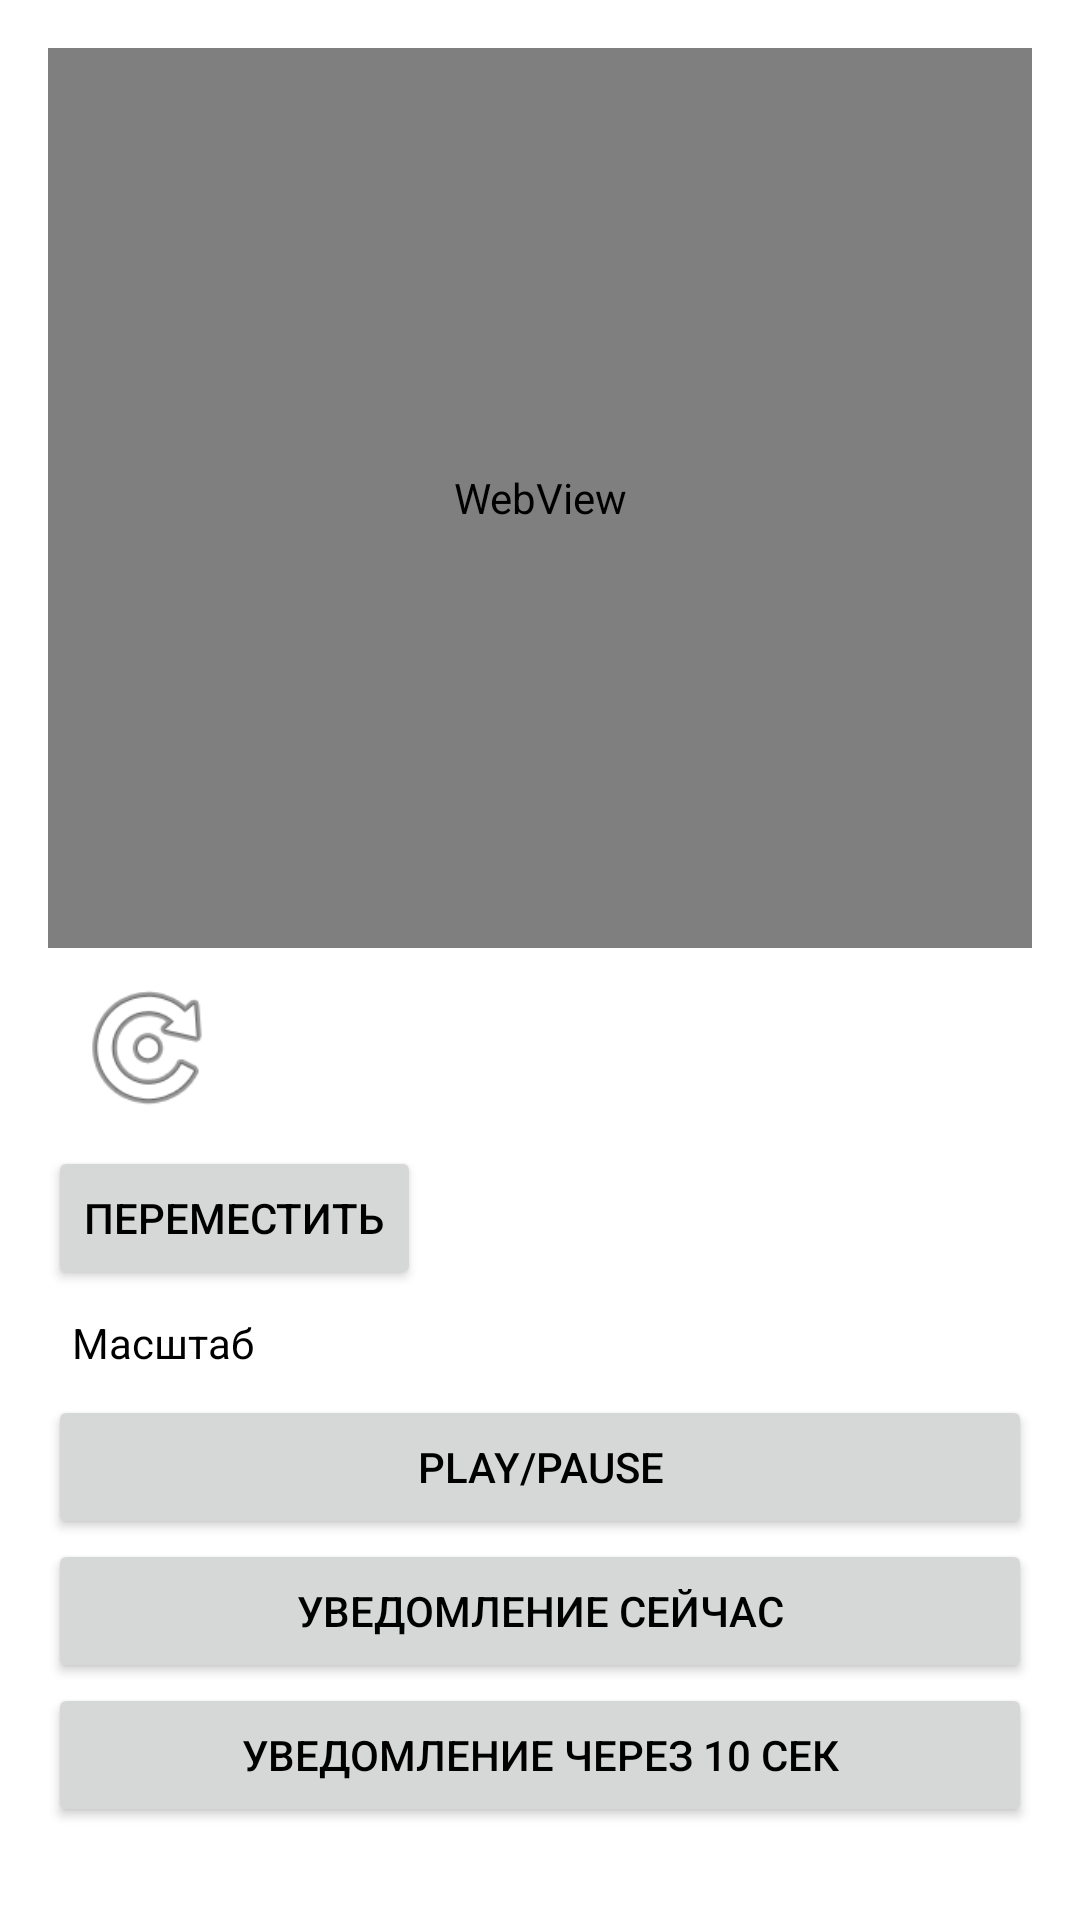

Where to tap for icons on this 1080*1920 app screen, as (x=x, y=y):
rotate: (x=147, y=1048)
